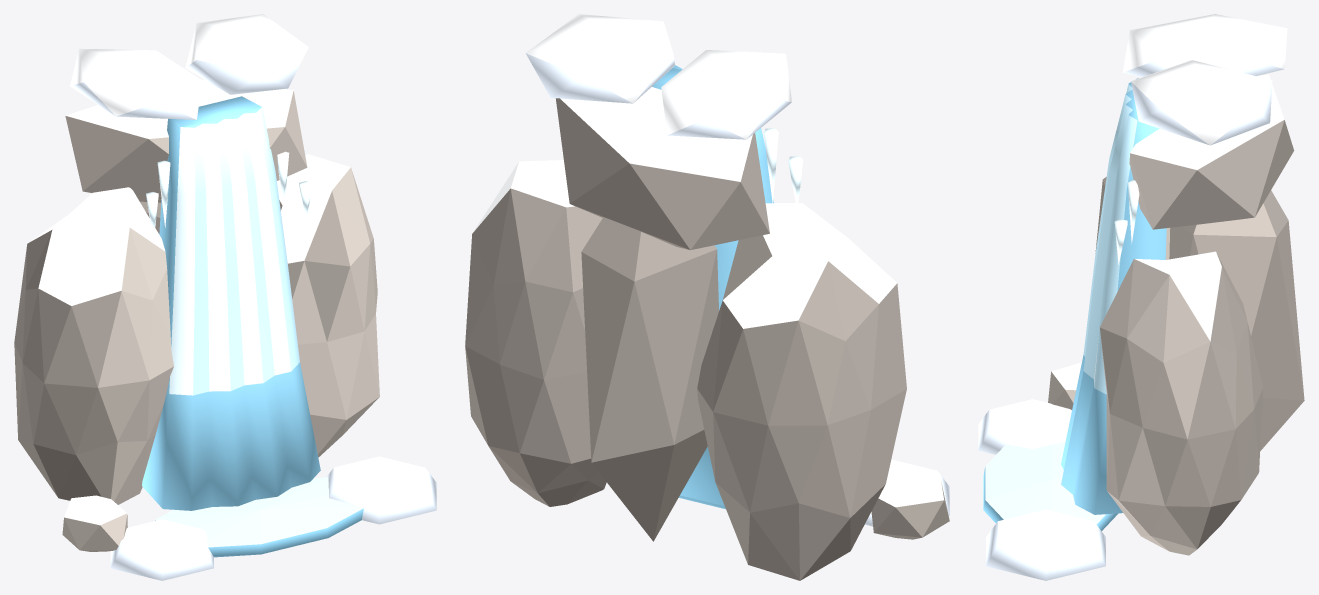
Rendered from frozen-fall.glb.
The picture shows the model from 3 angles, left to right: view 1: azimuth 30°, elevation 25°; view 2: azimuth 150°, elevation 25°; view 3: azimuth 270°, elevation 25°; orthographic projection. The views are drawn at different scales.
Visible parts, largest first — view 1: frozen-fall; view 2: frozen-fall; view 3: frozen-fall.
Boxes of the visible parts, left/top/right/bottom form: frozen-fall: left=14, top=14, right=436, bottom=580; frozen-fall: left=465, top=14, right=949, bottom=580; frozen-fall: left=978, top=14, right=1304, bottom=580.
Size of the model in its own units: 6.64 by 7.5 by 4.94.
